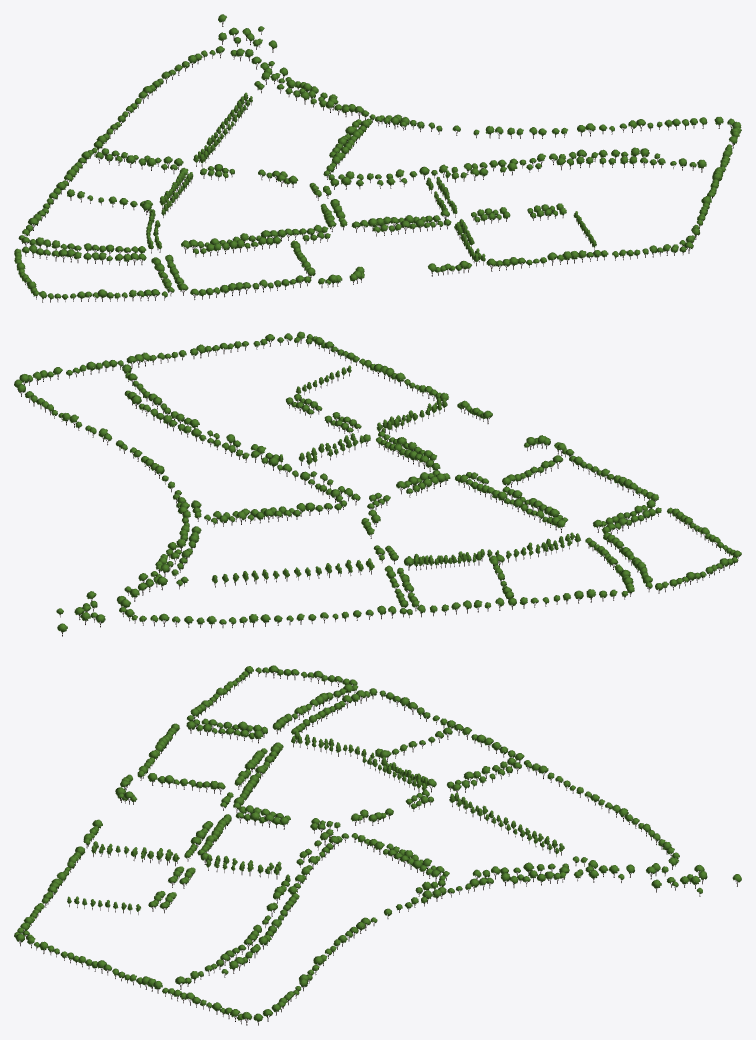
The picture shows the model from 3 angles, top to bottom: view 1: azimuth 30°, elevation 25°; view 2: azimuth 150°, elevation 25°; view 3: azimuth 270°, elevation 25°; orthographic projection. The views are drawn at different scales.
Size of the model in its own units: 1571 by 39.24 by 1373.
Materials: 3 (3 with a texture image).
